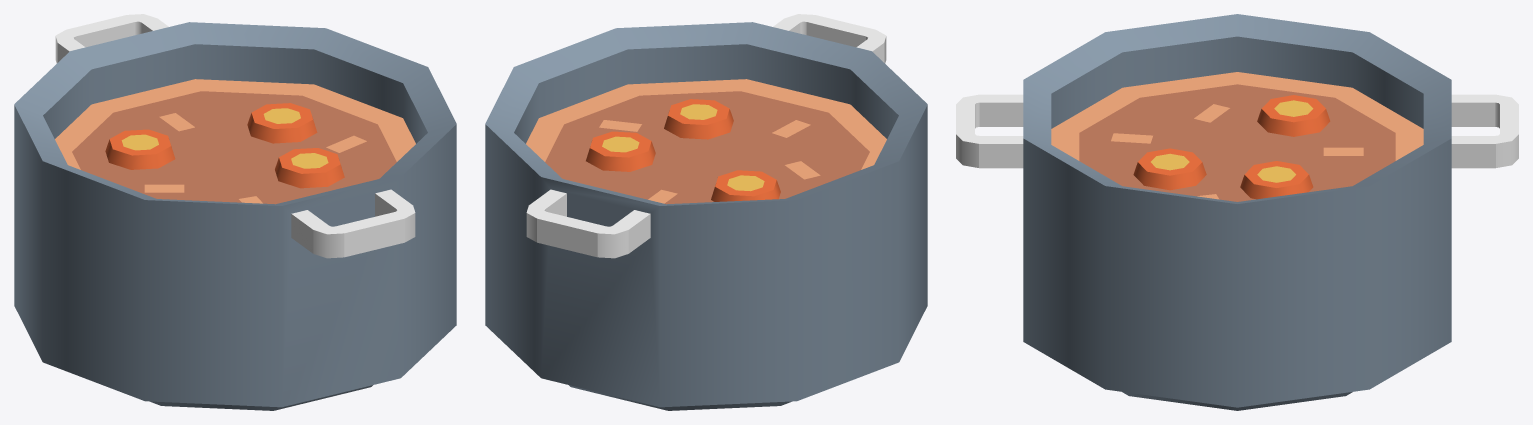
File: potStew.GLB
The picture shows the model from 3 angles, left to right: view 1: azimuth 30°, elevation 25°; view 2: azimuth 150°, elevation 25°; view 3: azimuth 270°, elevation 25°; orthographic projection.
Visible parts, largest first — view 1: potStew; view 2: potStew; view 3: potStew.
Part boxes in pixels (left/top/right/bottom): potStew: left=14, top=14, right=456, bottom=410; potStew: left=485, top=14, right=927, bottom=410; potStew: left=956, top=14, right=1518, bottom=410.
Size of the model in its own units: 0.6574 by 0.3608 by 0.8221.
